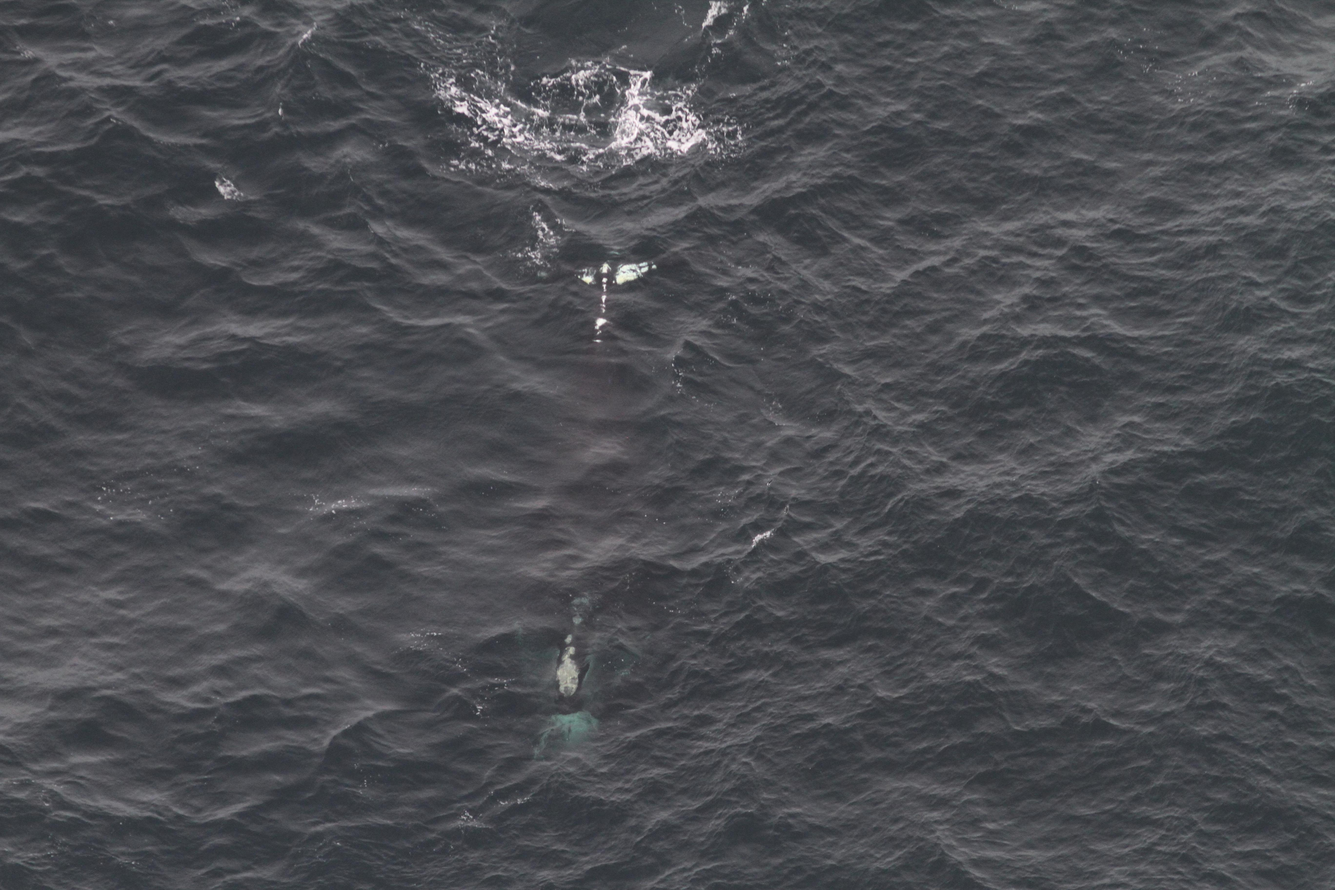whale: (503, 240, 673, 765)
